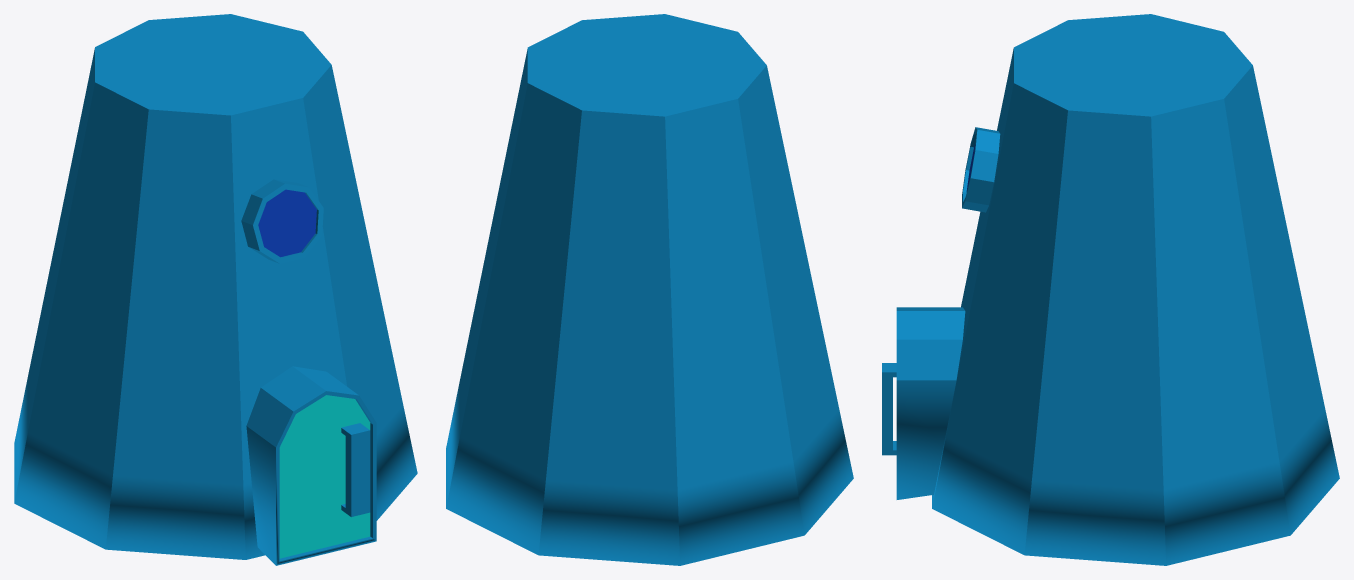
The model's file is Casco_Nave.fbx.
3 renders of one model, left to right at view 1: azimuth 30°, elevation 25°; view 2: azimuth 150°, elevation 25°; view 3: azimuth 270°, elevation 25°, orthographic.
Visible parts, largest first — view 1: Nave.002; view 2: Nave.002; view 3: Nave.002.
Part boxes in pixels (x1,y1,x2,y2): Nave.002: [14, 14, 417, 565]; Nave.002: [446, 14, 853, 565]; Nave.002: [882, 14, 1339, 565].
Bounding box in the file's own units: 601 × 662 × 665.
